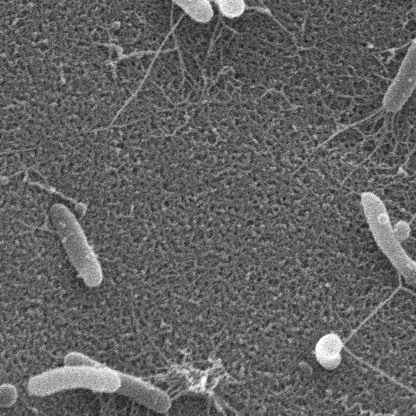cell2cell: (340, 272, 403, 345), (399, 0, 416, 229), (399, 277, 416, 316)
cell2surface: (117, 9, 185, 116), (344, 352, 416, 416), (306, 106, 390, 157)
filament: (360, 193, 416, 300)
regular: (67, 354, 172, 413), (51, 204, 103, 289), (383, 32, 416, 111), (28, 368, 117, 395), (146, 0, 215, 23), (315, 332, 342, 366), (217, 0, 247, 22)
